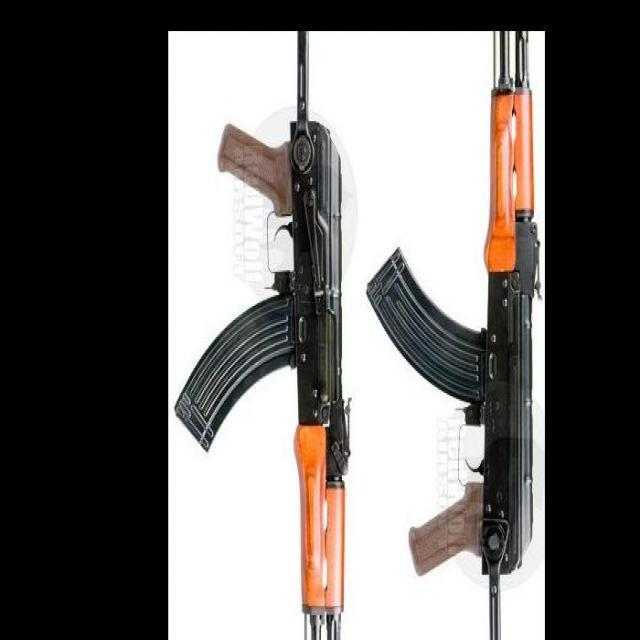weapon: (173, 32, 352, 640), (366, 30, 544, 640)
